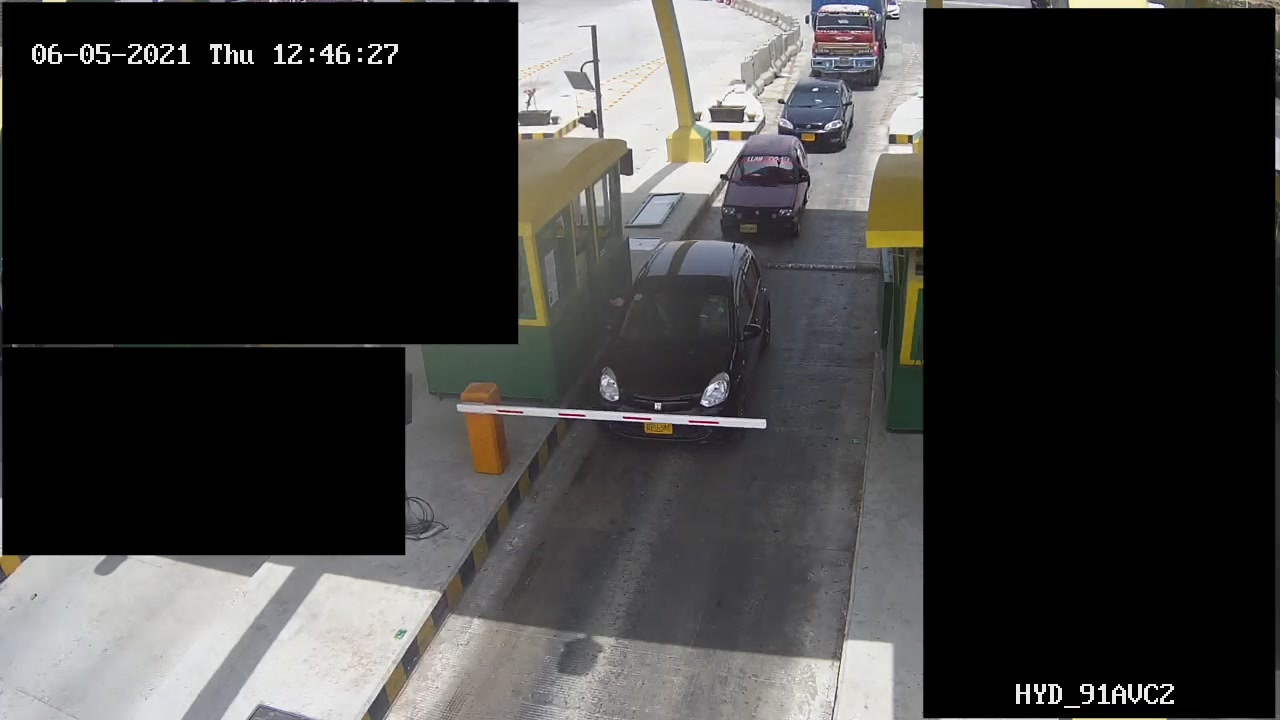F1: (590, 230, 768, 442), (713, 135, 807, 239), (775, 75, 861, 153)
